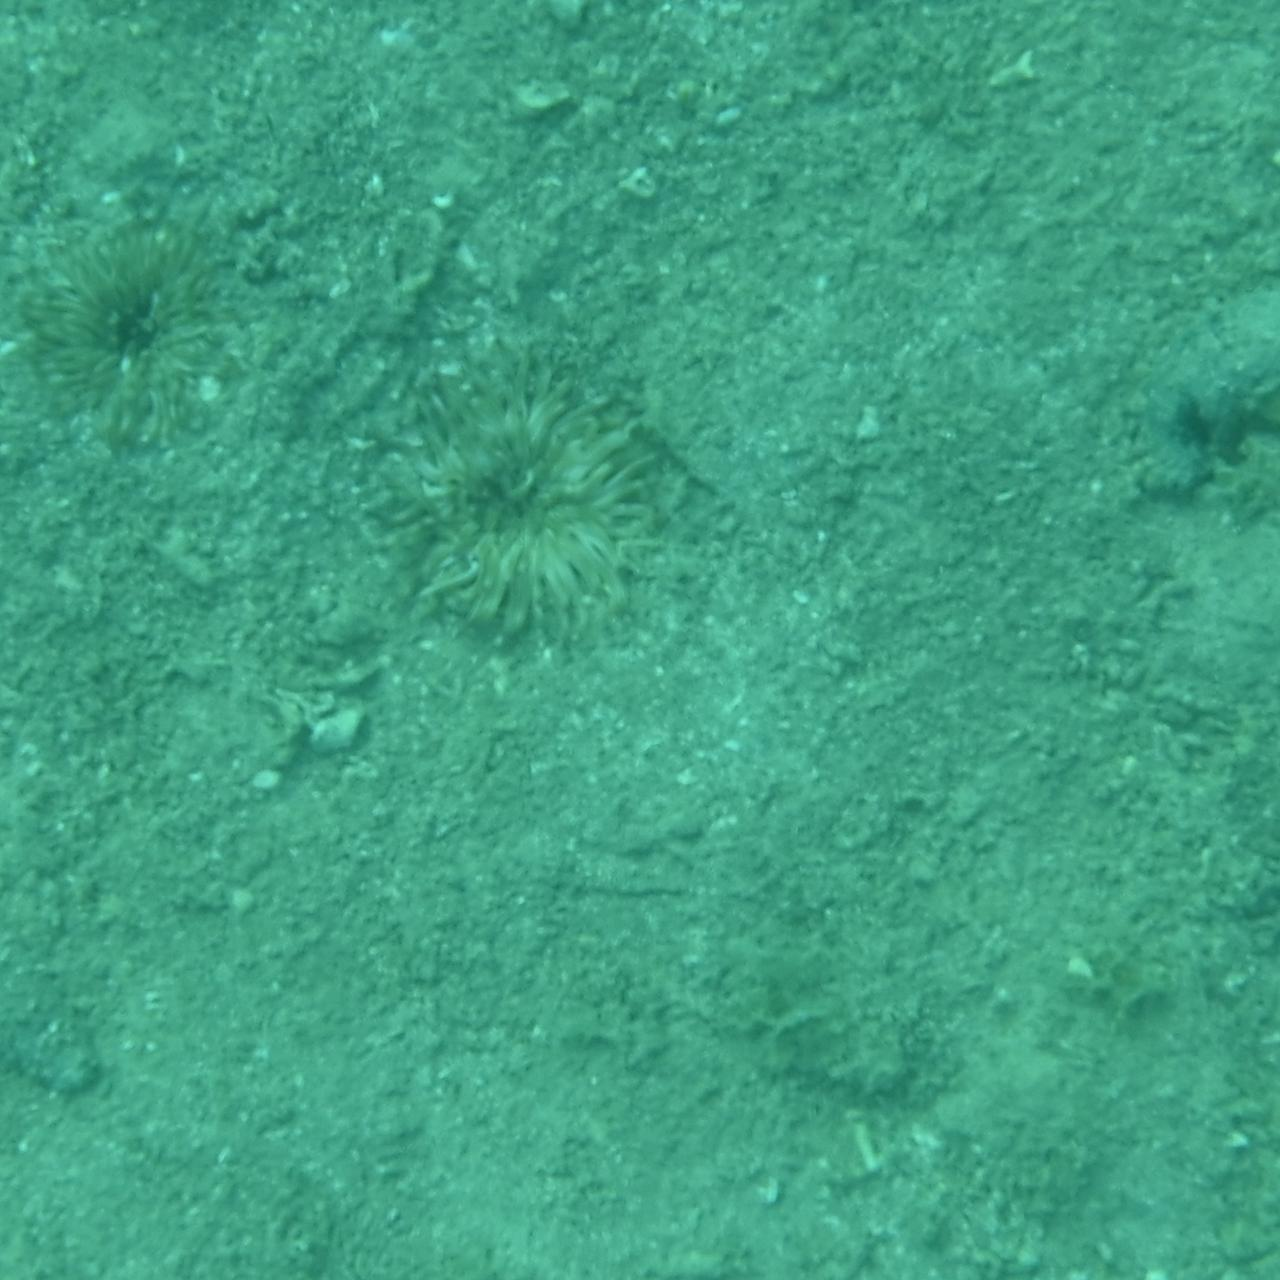Condylactis aurantiaca: (366, 359, 692, 669), (0, 196, 273, 456)
Holothuria tubulosa: (1054, 268, 1280, 516), (0, 805, 172, 1103)
